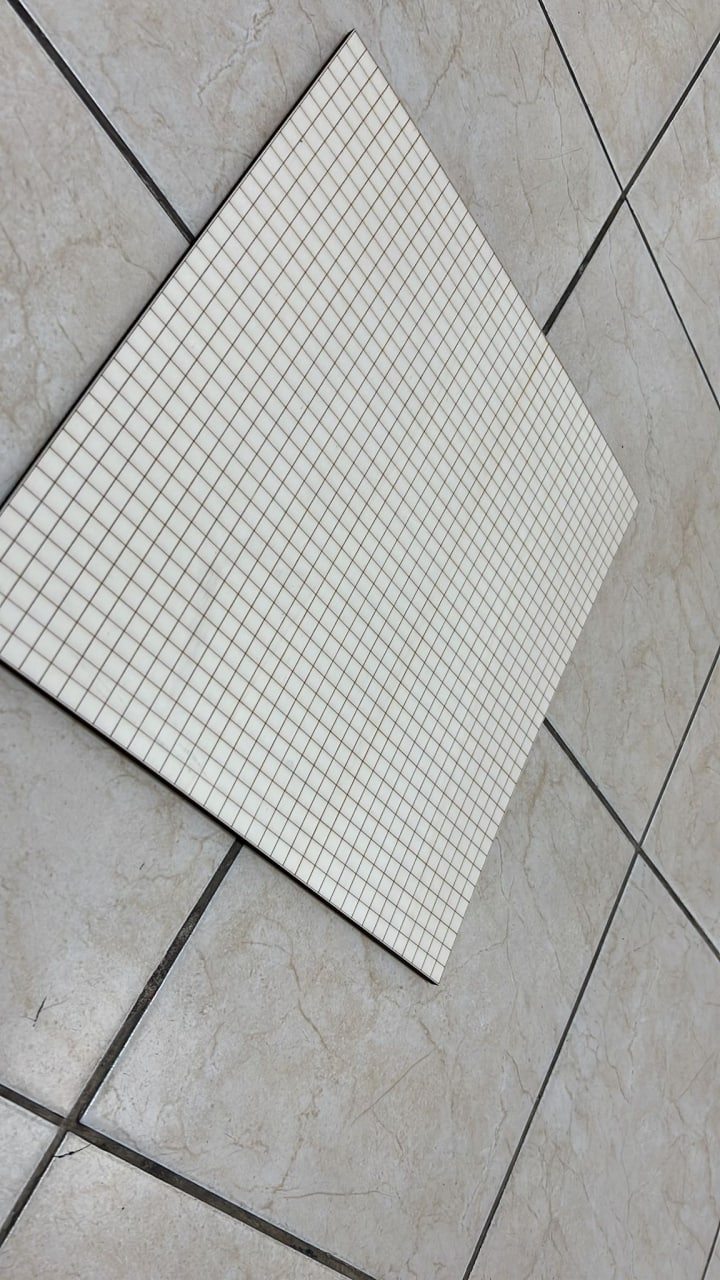grid: (1, 26, 654, 993)
